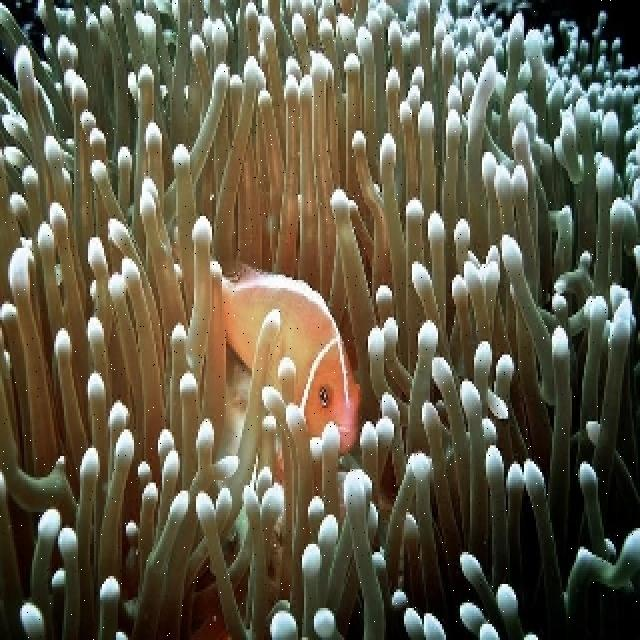fish: (220, 259, 357, 456)
reefs: (0, 1, 638, 637)
